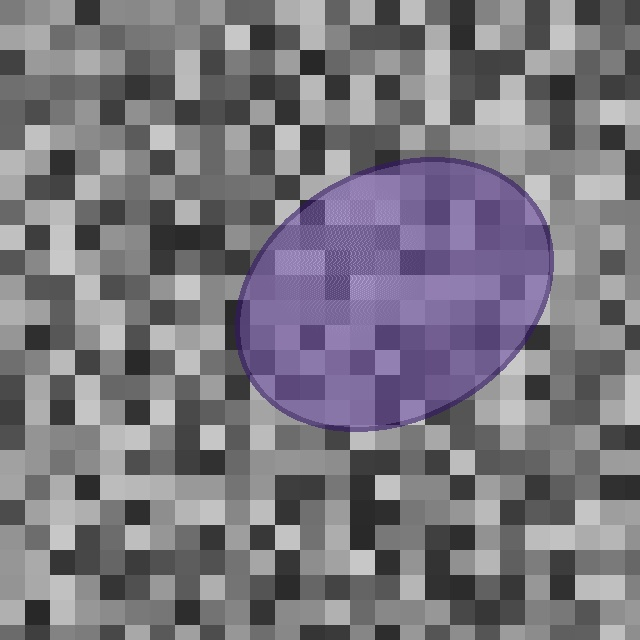lens: (238, 160, 550, 428)
